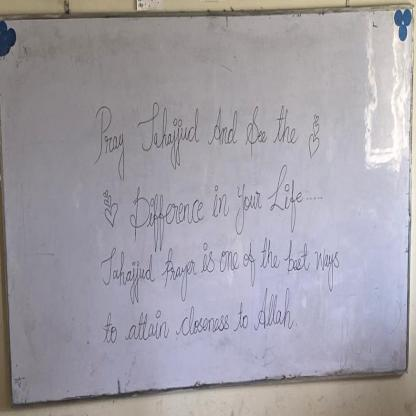Handwritten text: (89, 219, 345, 301), (88, 93, 299, 183), (93, 276, 307, 360), (123, 161, 308, 241)
